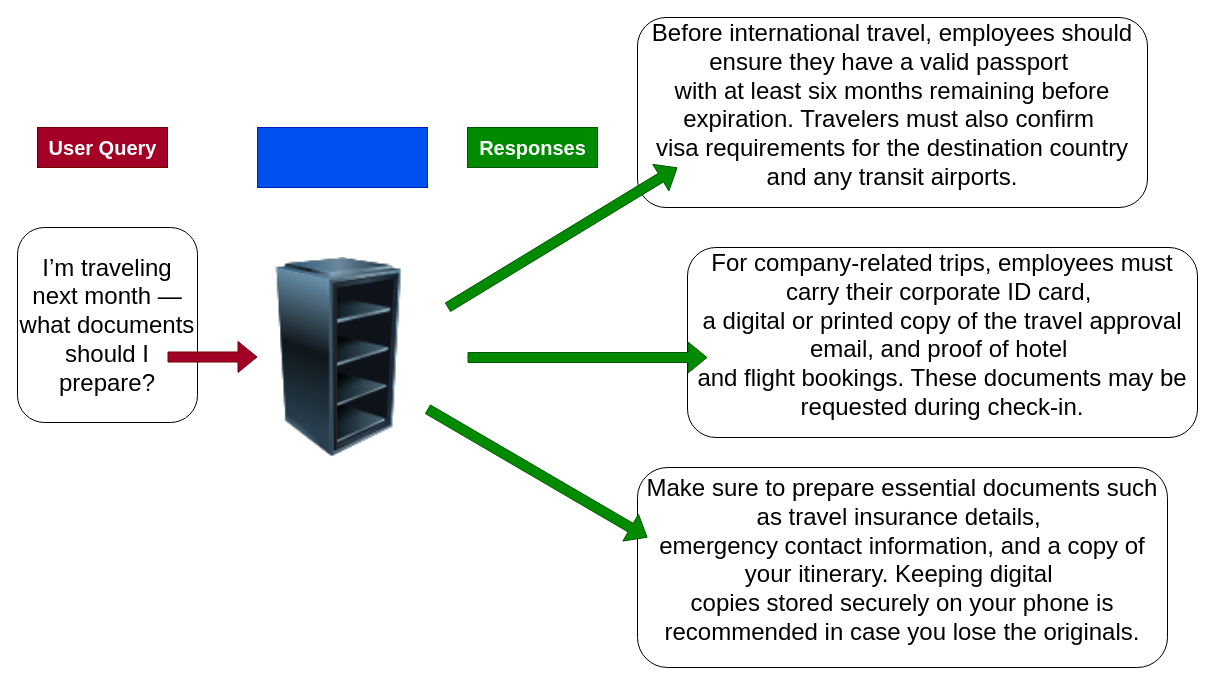
This 1215x685 diagram has some shape labels left out. The shapes that lost their labels are listed below. From the top down, each one's centre as x and y in pixels, then its label:
At [342,157]: "Travel Policy Documentation".
At [338,357]: "Vector Store".
